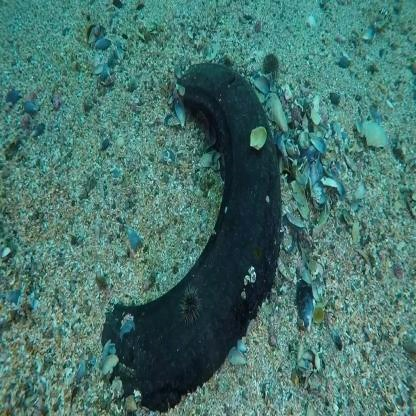tire: (149, 53, 276, 374)
